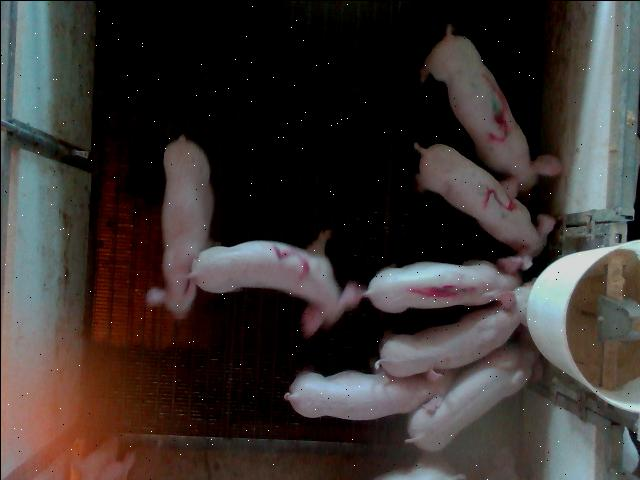pig-1: (364, 255, 530, 312)
pig-2: (190, 230, 362, 336)
pig-3: (419, 24, 561, 189)
pig-5: (415, 144, 554, 277)
